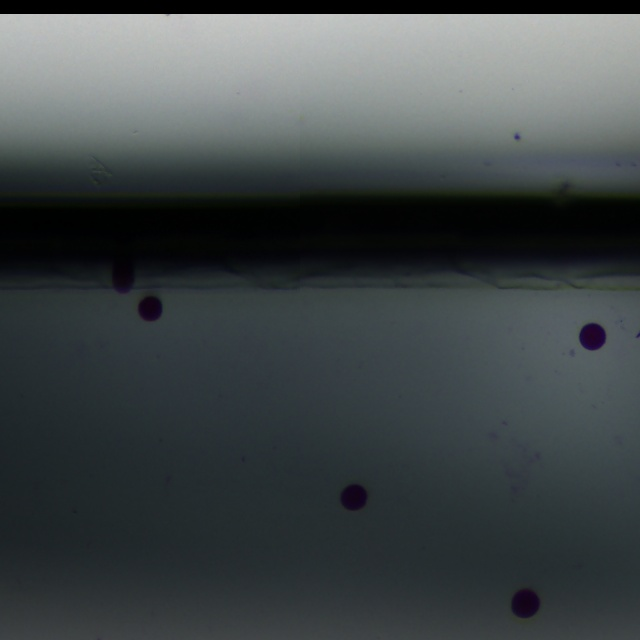viable: (512, 589, 539, 618), (113, 257, 134, 294), (580, 324, 606, 350), (341, 485, 367, 510), (138, 297, 162, 321)
